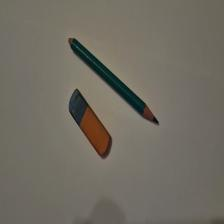eraser: (70, 89, 113, 158)
pencil: (69, 38, 160, 125)
